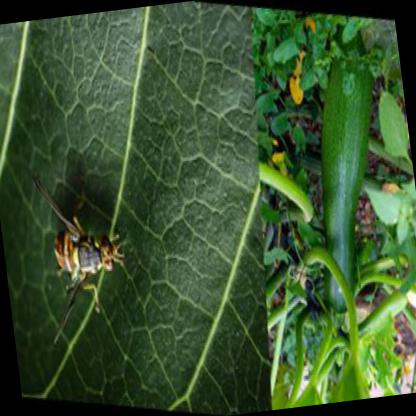fruit fly: (34, 180, 124, 348)
